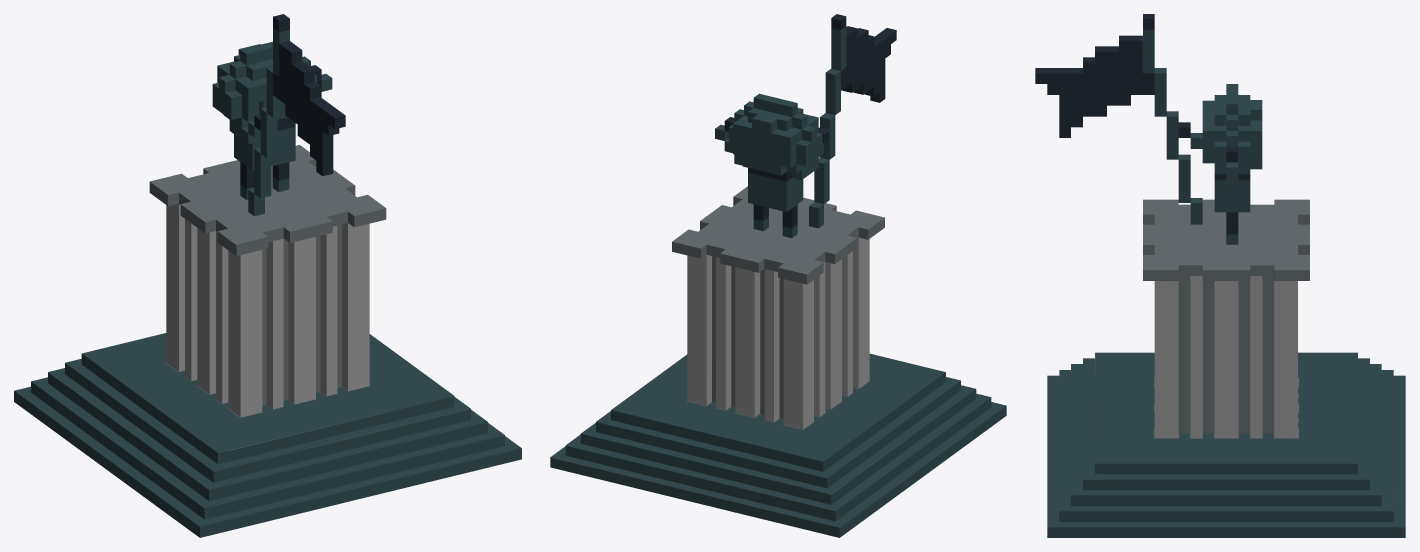
The model's file is statue_overtile.glb.
3 views of the same model, side by side, from view 1: azimuth 30°, elevation 25°; view 2: azimuth 150°, elevation 25°; view 3: azimuth 270°, elevation 25° (orthographic). The views are drawn at different scales.
Visible parts, largest first — view 1: statue_overtile; view 2: statue_overtile; view 3: statue_overtile.
Boxes of the visible parts, x1,y1,x2,y2 form: statue_overtile: (14,14,521,537); statue_overtile: (550,14,1006,537); statue_overtile: (1035,14,1405,537).
Bounding box in the file's own units: 3 × 4 × 3.1.
Materials: 1 (1 with a texture image).
